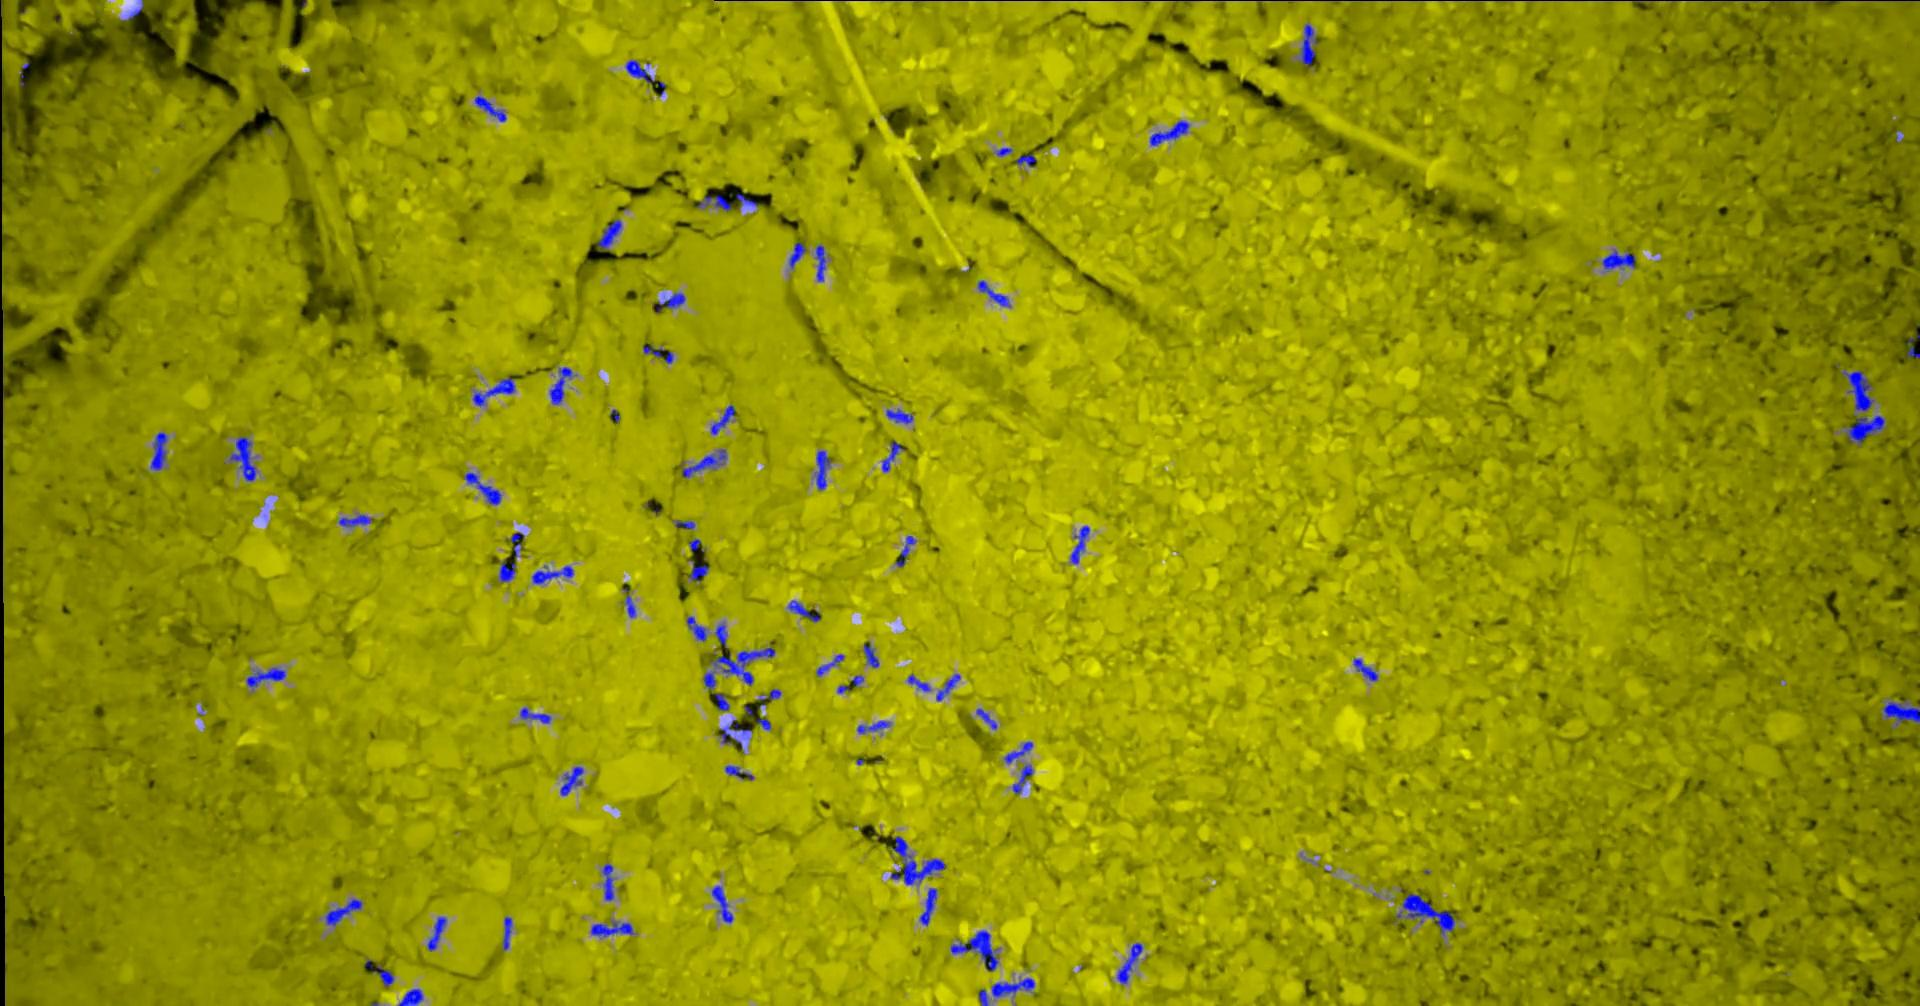ant: (890, 836, 945, 884), (709, 647, 775, 685), (1402, 893, 1454, 934), (950, 930, 998, 970), (681, 448, 726, 478), (1841, 370, 1873, 410), (472, 376, 514, 406), (463, 473, 502, 504), (229, 436, 255, 480), (1846, 415, 1884, 445), (324, 898, 362, 925), (1149, 119, 1189, 145), (1117, 942, 1142, 983), (1882, 699, 1919, 724), (977, 279, 1010, 306), (990, 977, 1034, 997), (549, 366, 571, 404), (720, 719, 750, 747), (474, 95, 505, 121), (364, 959, 392, 987), (710, 404, 735, 434), (246, 667, 284, 687), (711, 885, 731, 922), (531, 565, 573, 583), (597, 218, 621, 249), (881, 439, 904, 471), (1070, 525, 1090, 563), (425, 916, 446, 951), (1603, 249, 1636, 271), (559, 766, 583, 795), (625, 60, 655, 83), (1300, 23, 1317, 65), (789, 600, 820, 621), (150, 432, 168, 470), (1003, 741, 1032, 763), (814, 450, 830, 489), (895, 535, 916, 567), (935, 673, 959, 700), (919, 887, 936, 925), (1012, 763, 1032, 793), (590, 922, 632, 936), (815, 654, 843, 674), (655, 292, 684, 311), (1352, 657, 1377, 680), (697, 194, 730, 211), (686, 616, 706, 640), (519, 708, 550, 723), (602, 862, 613, 901), (789, 243, 805, 268), (688, 560, 709, 580), (977, 708, 996, 729), (724, 765, 753, 779), (907, 673, 930, 691), (857, 720, 889, 733), (397, 988, 422, 1005), (622, 587, 635, 617), (338, 514, 371, 526), (815, 245, 825, 281), (886, 409, 912, 423), (510, 531, 523, 558), (498, 561, 516, 580), (863, 644, 877, 667), (735, 192, 757, 206), (502, 916, 510, 949), (714, 624, 726, 647), (1906, 337, 1919, 358), (643, 344, 664, 357), (1015, 154, 1035, 166), (714, 694, 729, 710), (703, 672, 715, 688), (764, 688, 780, 700), (676, 520, 695, 528), (978, 988, 988, 1005), (756, 718, 770, 729), (688, 537, 700, 550)
